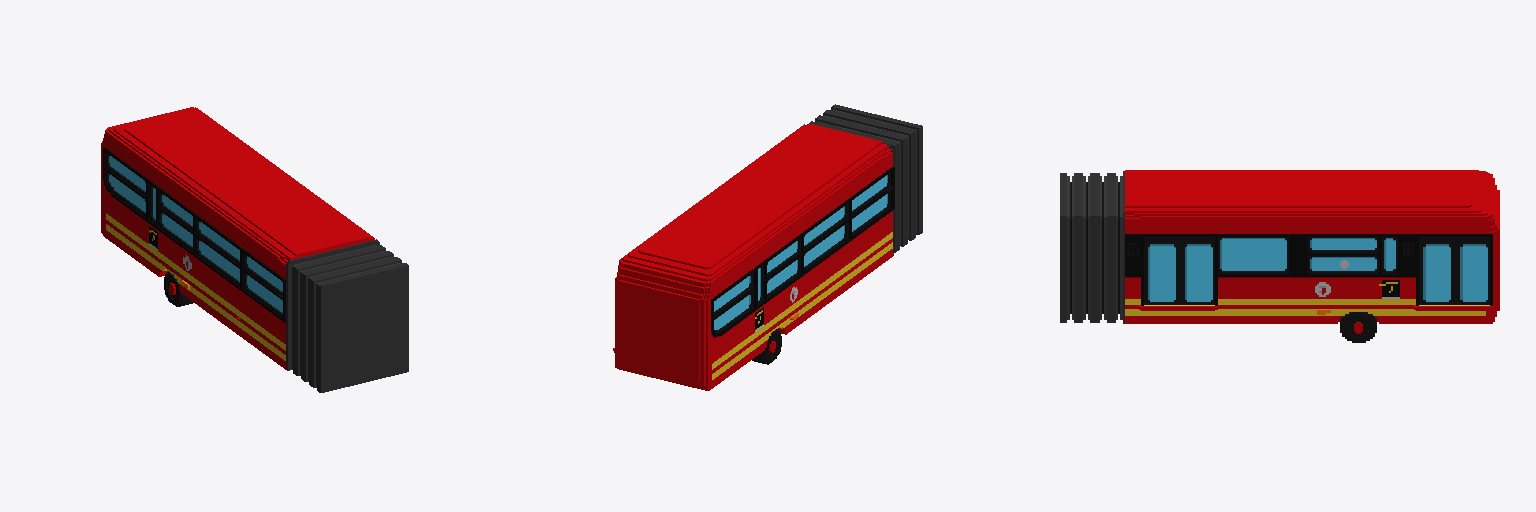
The picture shows the model from 3 angles: view 1: azimuth 30°, elevation 25°; view 2: azimuth 150°, elevation 25°; view 3: azimuth 270°, elevation 25°; orthographic projection.
Visible parts, largest first — view 1: object 1; view 2: object 1; view 3: object 1.
Part boxes in pixels (x1,y1,x2,y2): object 1: (101, 107, 408, 392); object 1: (613, 104, 922, 390); object 1: (1060, 170, 1499, 342).
Size of the model in its own units: 4.9 by 6.4 by 19.
1 materials, 1 textured.